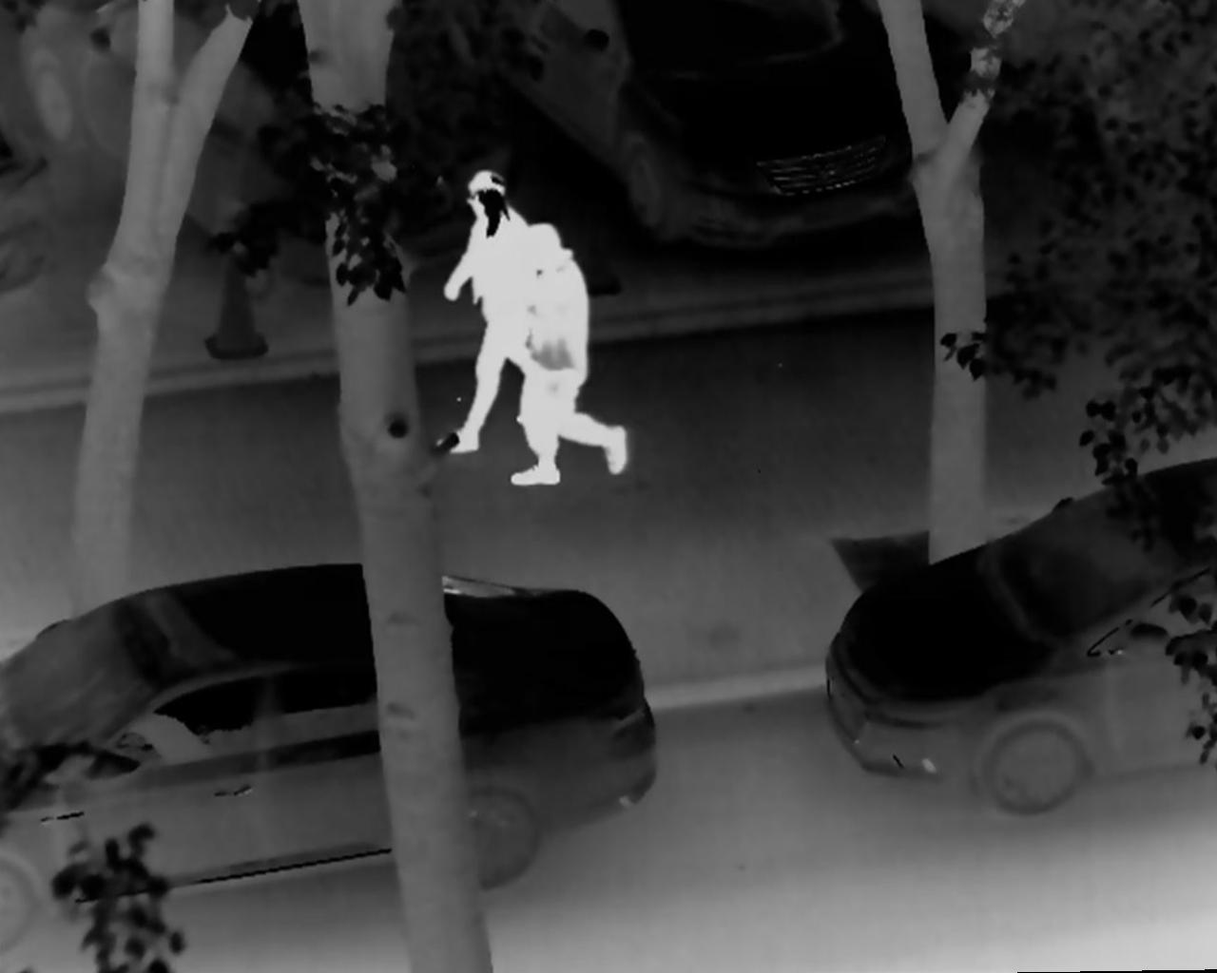person: (432, 172, 555, 460), (503, 216, 630, 486)
